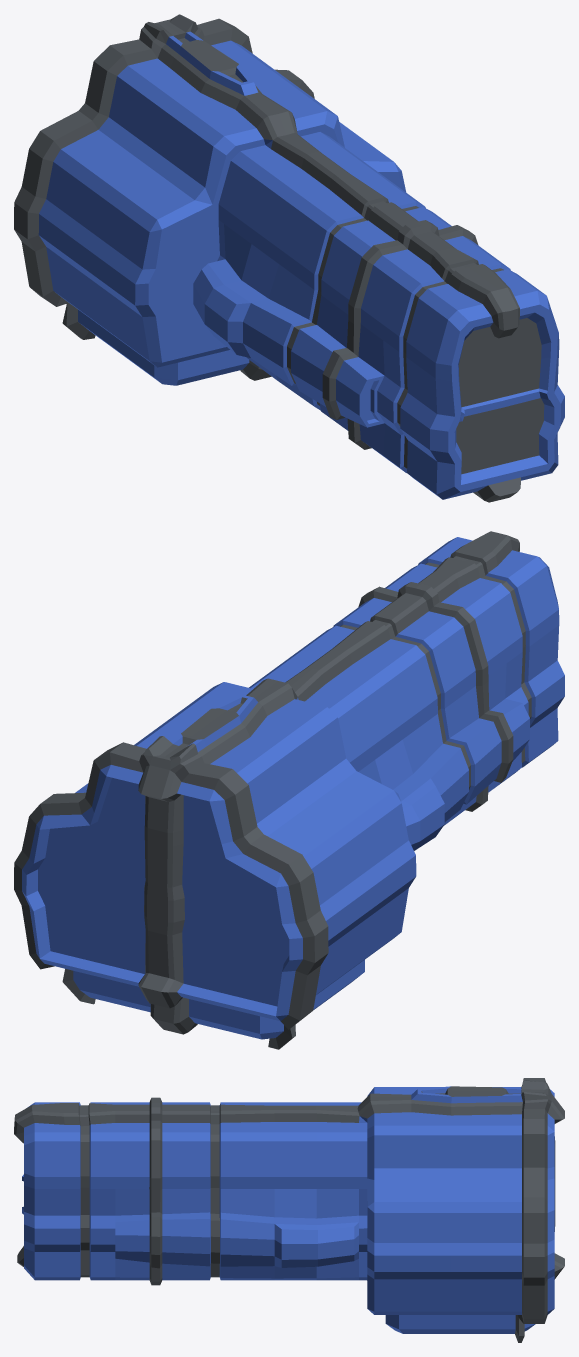
File: Mothership_02_Stern_Blue.fbx
The picture shows the model from 3 angles, top to bottom: view 1: azimuth 30°, elevation 25°; view 2: azimuth 150°, elevation 25°; view 3: azimuth 270°, elevation 25°; orthographic projection. The views are drawn at different scales.
Visible parts, largest first — view 1: Mothership_02_Stern_Blue; view 2: Mothership_02_Stern_Blue; view 3: Mothership_02_Stern_Blue.
Part boxes in pixels (x1,y1,x2,y2): Mothership_02_Stern_Blue: (14, 14, 564, 502); Mothership_02_Stern_Blue: (14, 531, 564, 1049); Mothership_02_Stern_Blue: (14, 1078, 564, 1342).
Size of the model in its own units: 1233 by 1131 by 2554.
Materials: 3 (3 with a texture image).
